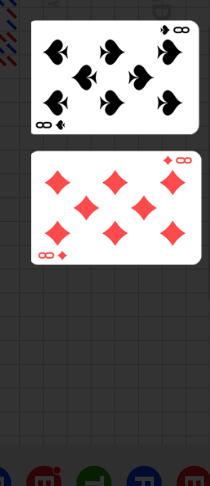8D: (37, 250, 69, 261)
8S: (157, 24, 191, 37)
